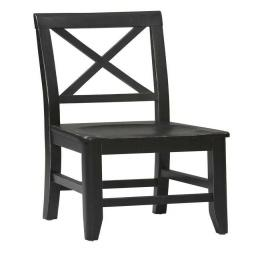Chair: (32, 13, 227, 242)
